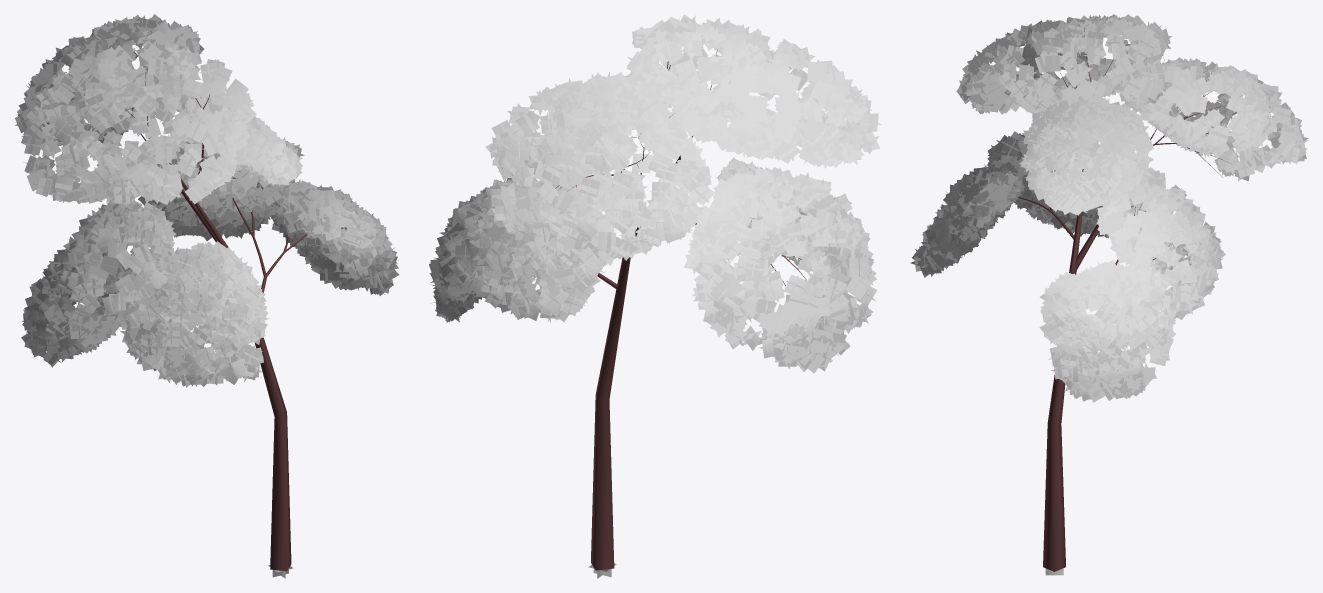
Rendered from vox_tree.002.fbx.
3 views of the same model, side by side, from view 1: azimuth 30°, elevation 25°; view 2: azimuth 150°, elevation 25°; view 3: azimuth 270°, elevation 25° (orthographic). The views are drawn at different scales.
Parts seen in each view (by area): view 1: Leaf, Trunk; view 2: Leaf, Trunk; view 3: Leaf, Trunk.
Boxes of the visible parts, left/top/right/bottom form: Leaf: left=15, top=14, right=399, bottom=578; Trunk: left=125, top=72, right=307, bottom=571; Leaf: left=429, top=14, right=881, bottom=578; Trunk: left=476, top=49, right=806, bottom=570; Leaf: left=910, top=14, right=1308, bottom=575; Trunk: left=1018, top=28, right=1245, bottom=571.
Size of the model in its own units: 1144 by 1540 by 1114.
